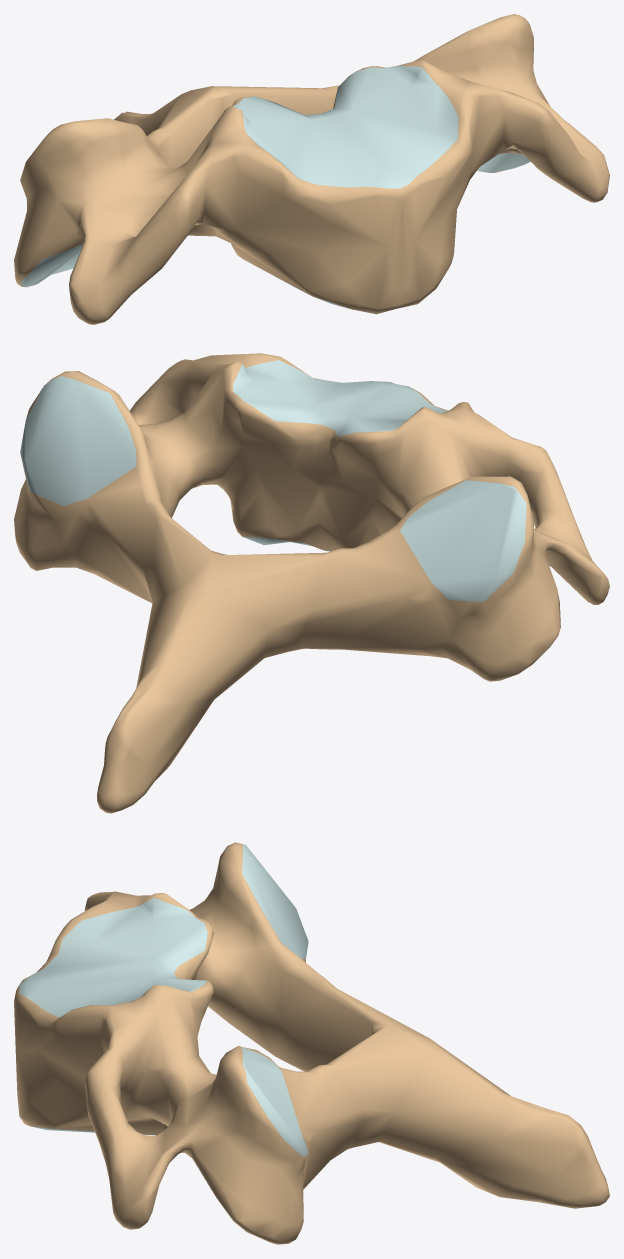
File: C3_Generated_Mesh_From_X3D.011.glb
The picture shows the model from 3 angles, top to bottom: view 1: azimuth 30°, elevation 25°; view 2: azimuth 150°, elevation 25°; view 3: azimuth 270°, elevation 25°; orthographic projection.
Visible parts, largest first — view 1: C3_Generated_Mesh_From_X3D.011; view 2: C3_Generated_Mesh_From_X3D.011; view 3: C3_Generated_Mesh_From_X3D.011.
Boxes of the visible parts, x1,y1,x2,y2 form: C3_Generated_Mesh_From_X3D.011: [14, 14, 609, 324]; C3_Generated_Mesh_From_X3D.011: [14, 353, 609, 813]; C3_Generated_Mesh_From_X3D.011: [14, 842, 609, 1244].
Bounding box in the file's own units: 0.0565 × 0.0267 × 0.0542.
